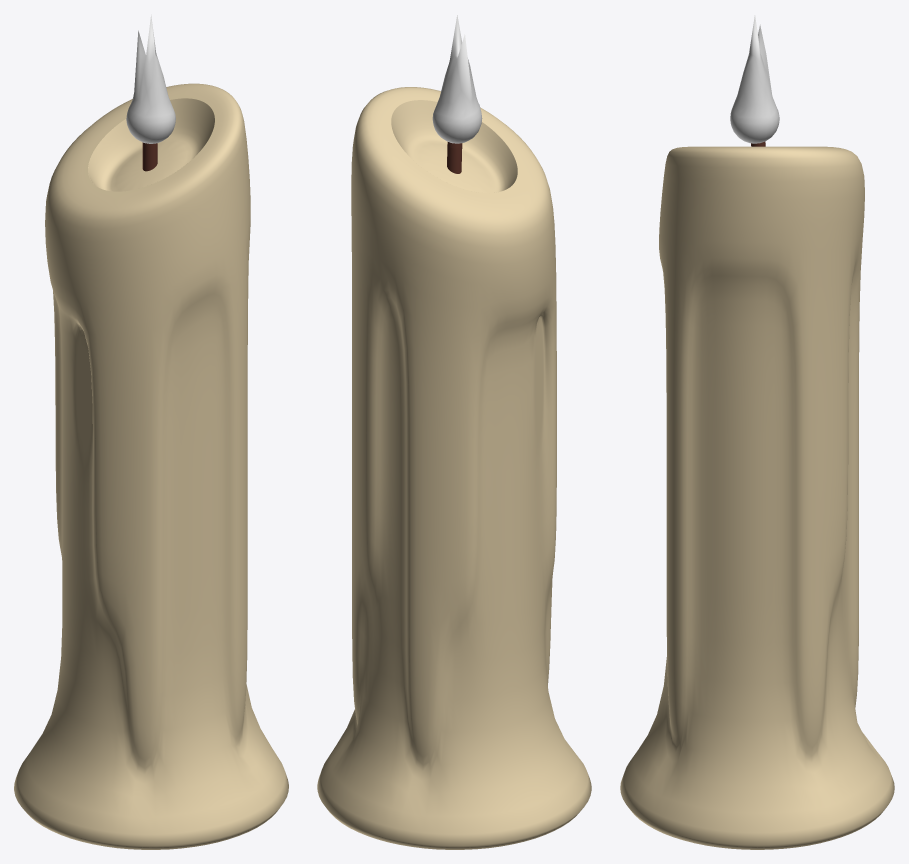
The model's file is CANDLE.fbx.
3 renders of one model, left to right at view 1: azimuth 30°, elevation 25°; view 2: azimuth 150°, elevation 25°; view 3: azimuth 270°, elevation 25°, orthographic.
Visible parts, largest first — view 1: Cylinder, Roundcube.002; view 2: Cylinder, Roundcube.002; view 3: Cylinder, Roundcube.002.
Boxes of the visible parts, x1,y1,x2,y2 form: Cylinder: [14, 83, 288, 849]; Roundcube.002: [126, 14, 175, 143]; Cylinder: [317, 87, 591, 849]; Roundcube.002: [432, 15, 482, 143]; Cylinder: [620, 146, 894, 849]; Roundcube.002: [730, 15, 779, 143].
Size of the model in its own units: 169 by 531 by 169.
